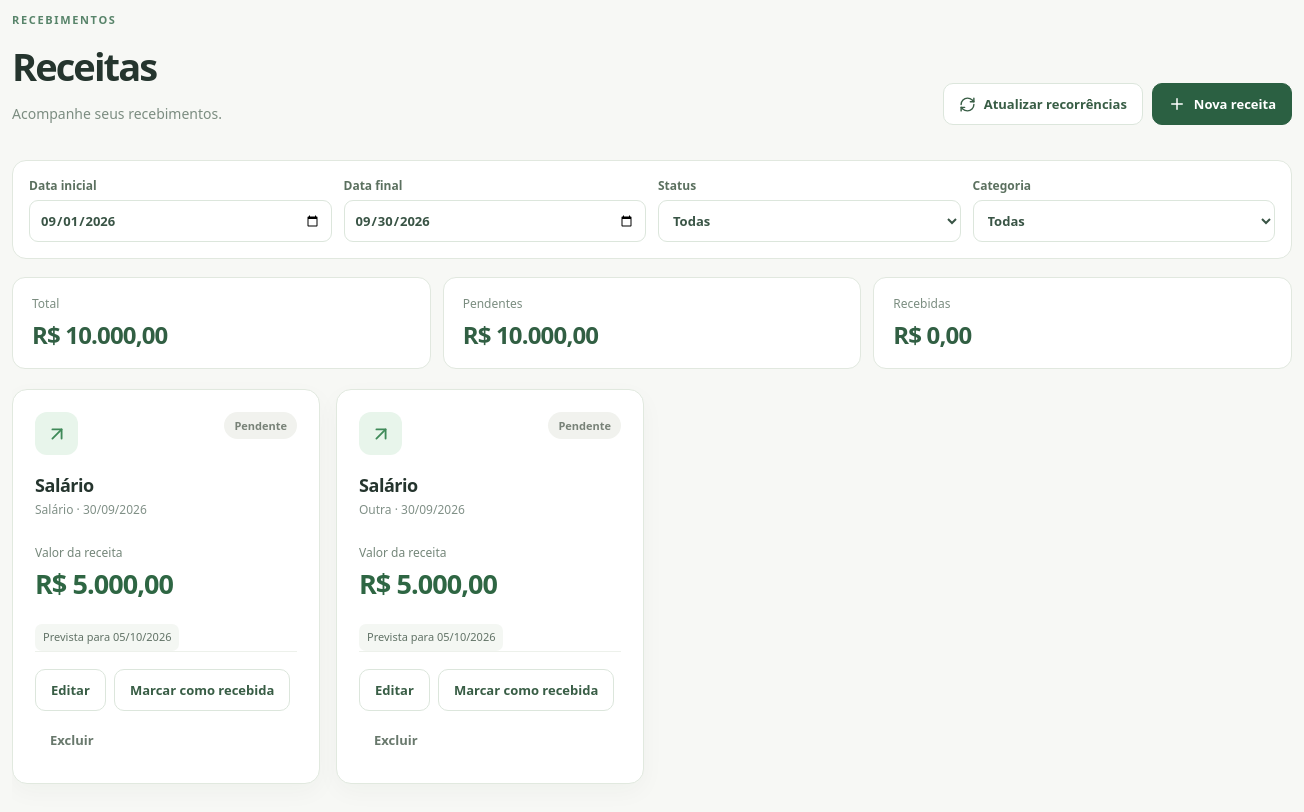
Scenario: 6: filtro por categoria
Select "Salário" in the dropdown labelled "Categoria" at [1124, 221], box [972,200,1275,242]
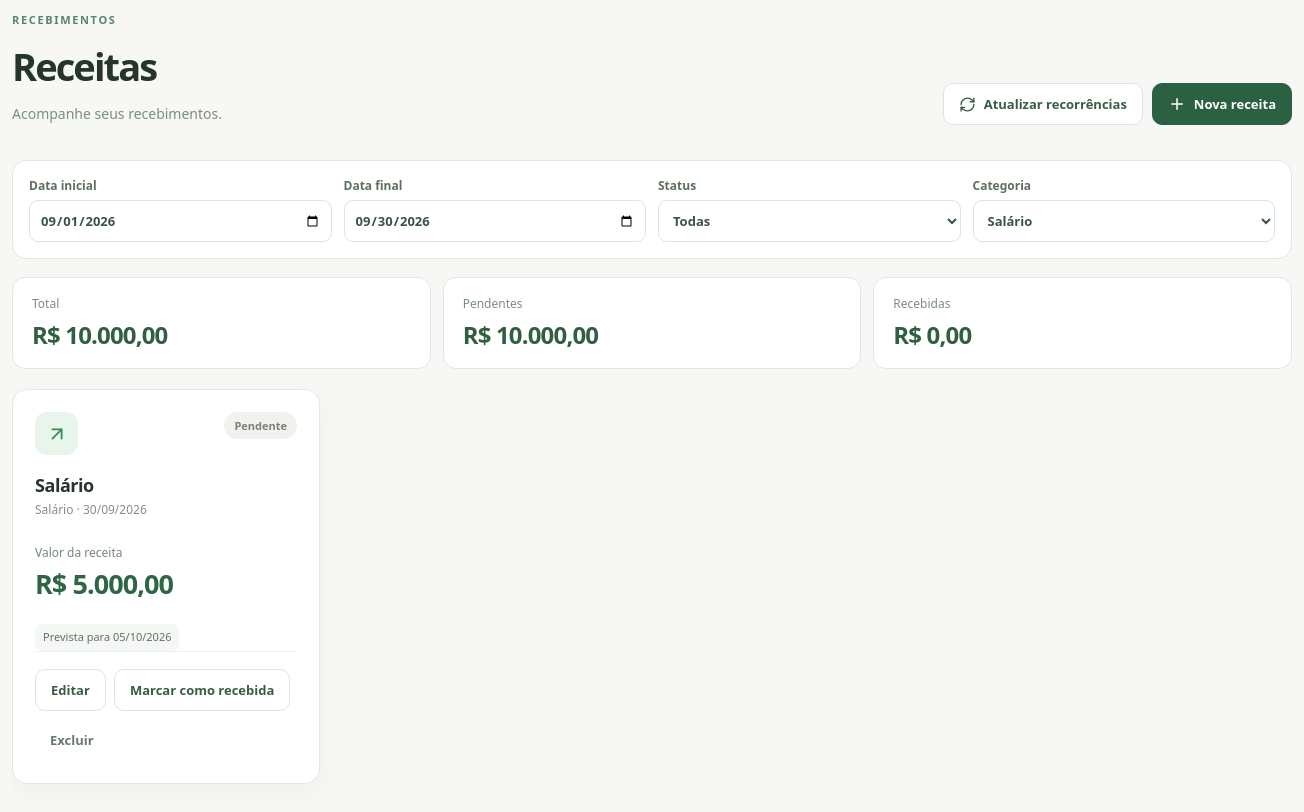
Expected: the text "Outra" is gone
